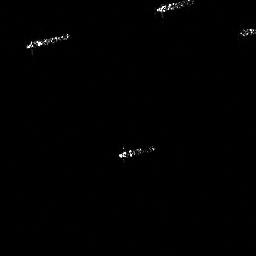ship: (26, 33, 71, 55), (117, 144, 158, 164), (155, 1, 201, 17)
